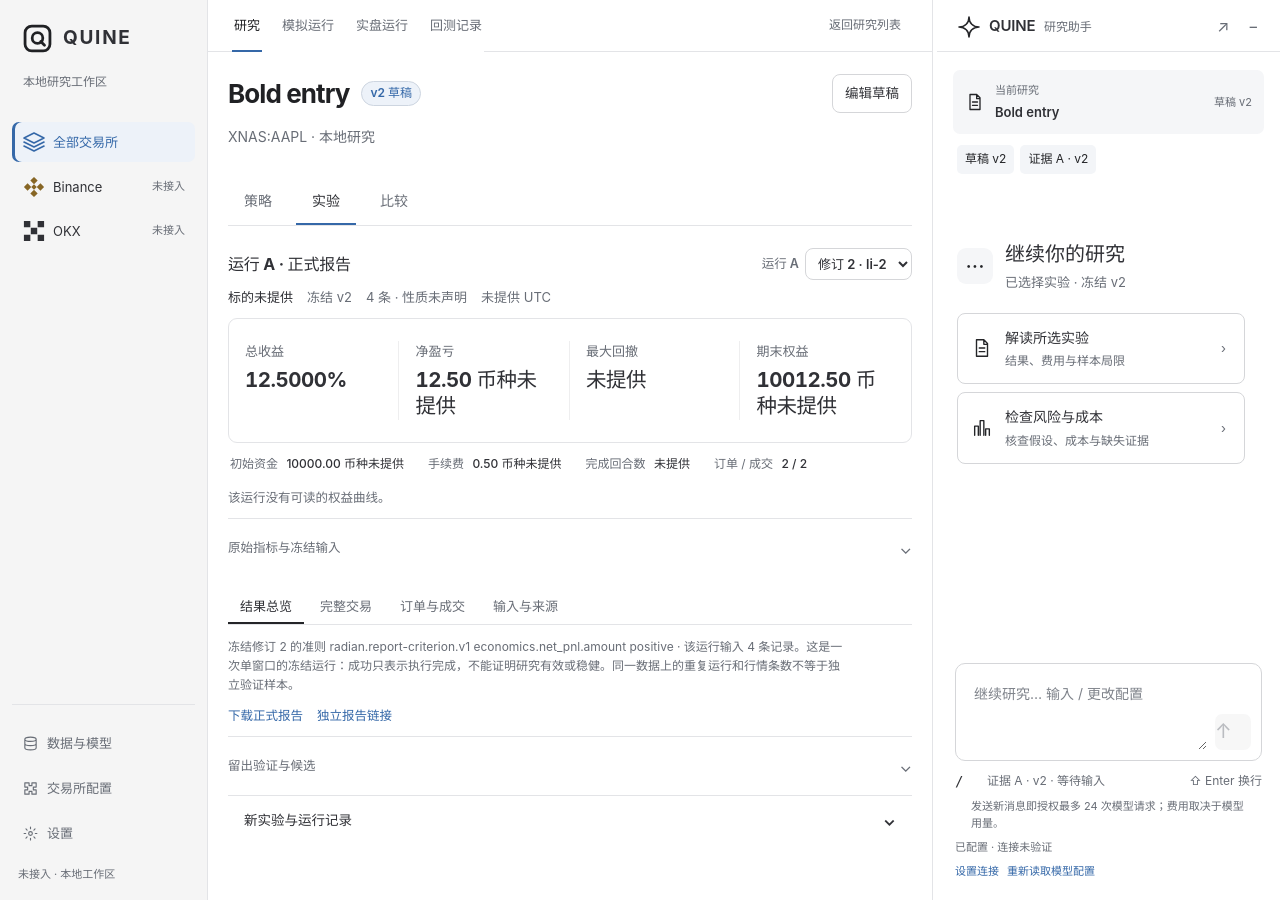
it: user strategy evidence comparison › refuses to difference amounts whose currency the report never recorded
The image size is (1280, 900).
Click the tab "比较".
click(394, 202)  # box [364,179,424,225]
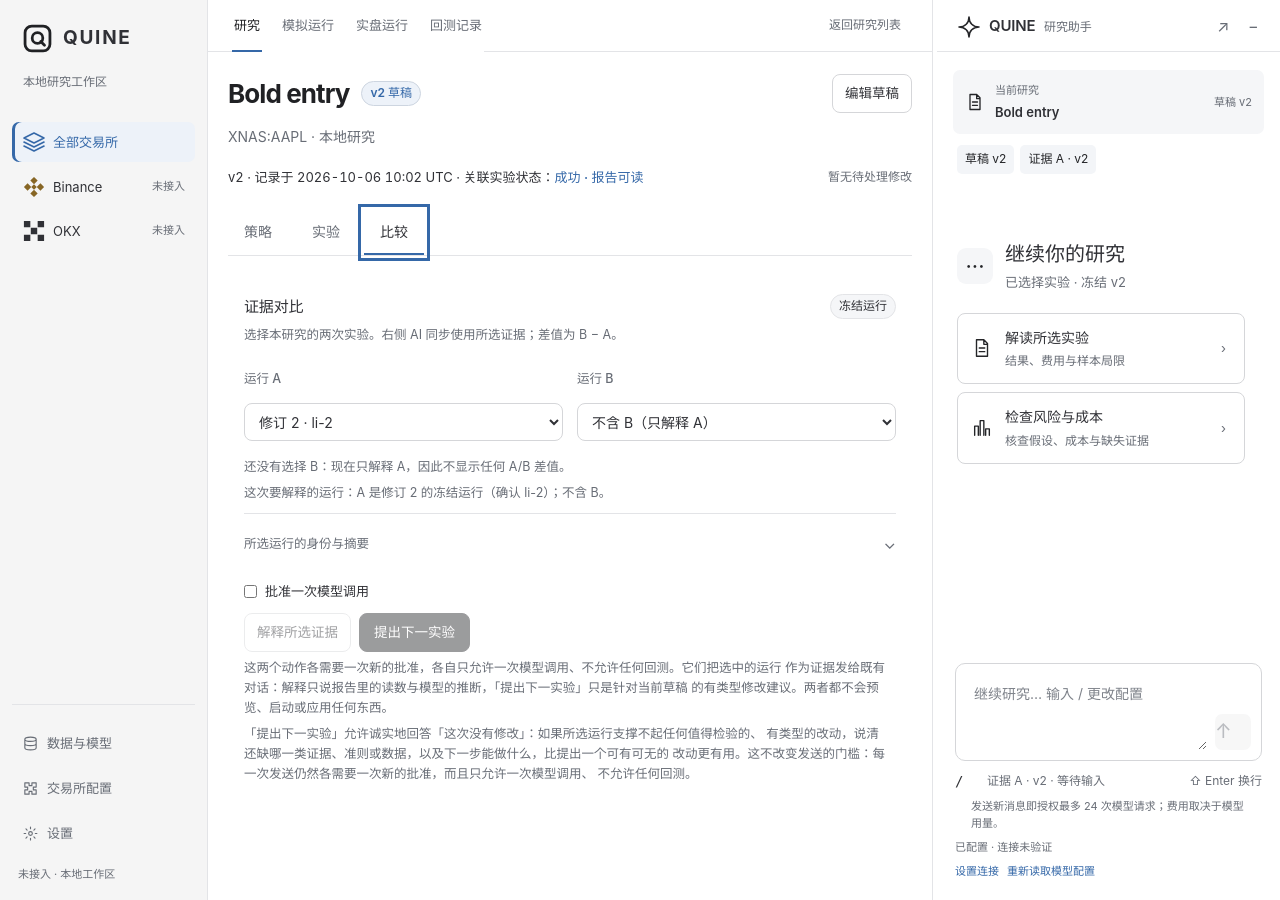
Select "修订 1 · li-1" in the dropdown labelled "运行 B" at (736, 422), box [577,403,896,441]
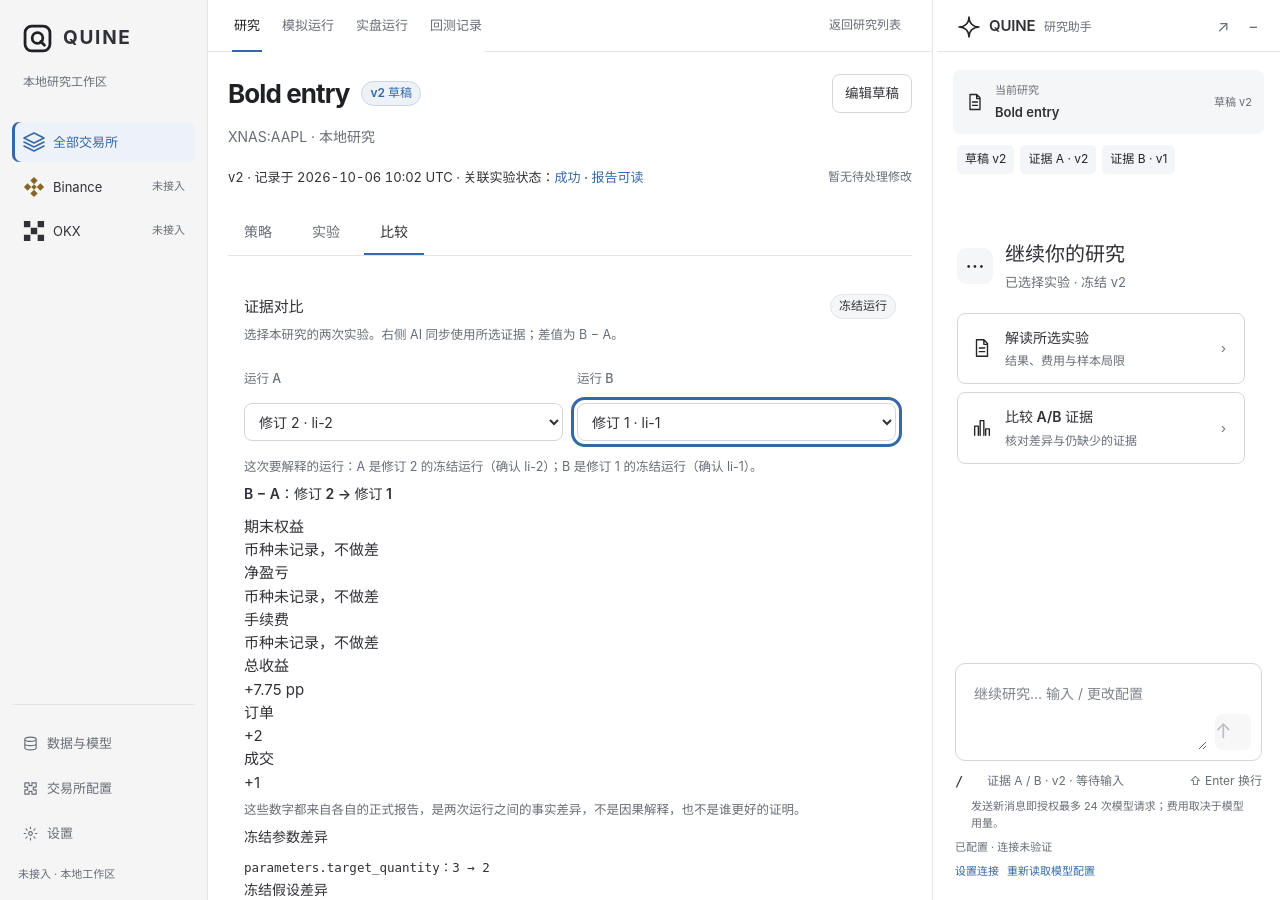
expect the text "币种未记录，不做差" is shown 3 times: met, box [244,540,379,559]; [244,587,379,606]; [244,633,379,652]
expect the text "+2" is shown: met, box [244,726,263,745]
expect the text "+7.75 pp" is shown: met, box [244,680,304,699]
